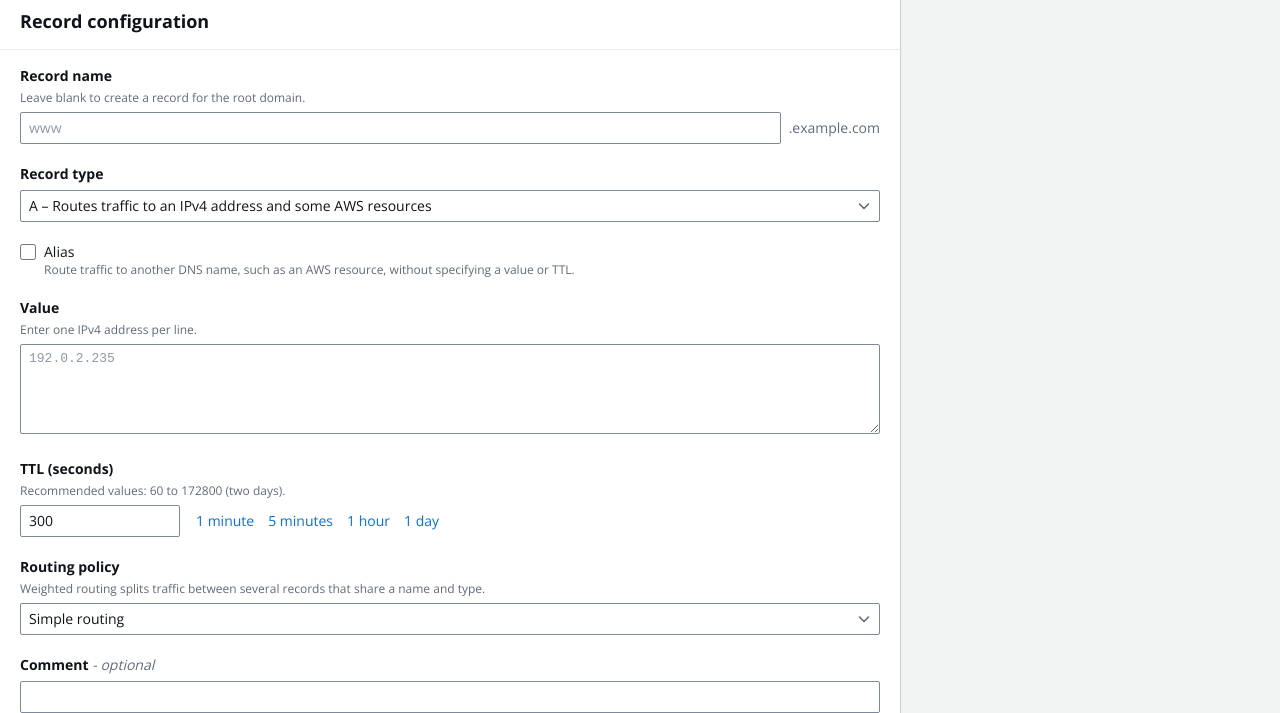
Scenario: <RecordForm> dynamic fields › asks for weight and record ID under weighted routing
The image size is (1280, 713).
Select "Weighted" in the dropdown labelled "Routing policy" at [450, 619], box x1=20 y1=603 x2=880 y2=635
(page scrolled)
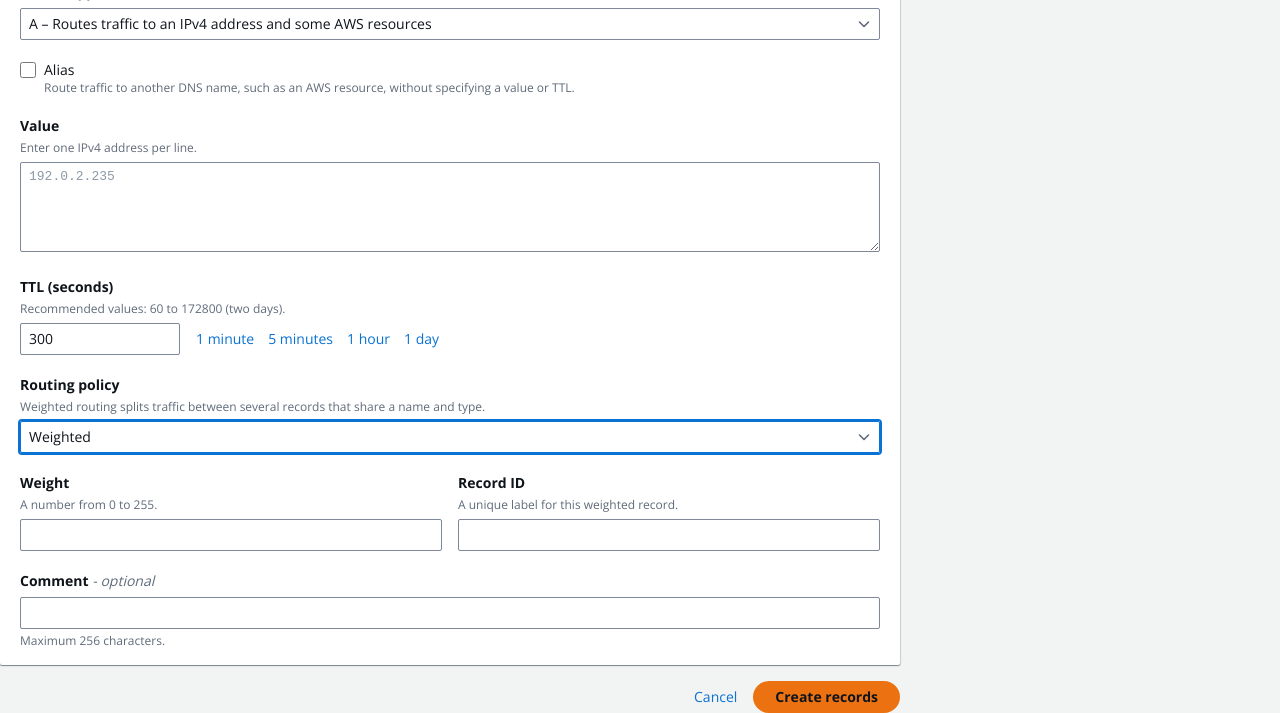
Result: the field labelled "Weight" is shown at x1=20 y1=519 x2=442 y2=551
Result: the field labelled "Record ID" is shown at x1=458 y1=519 x2=880 y2=551
